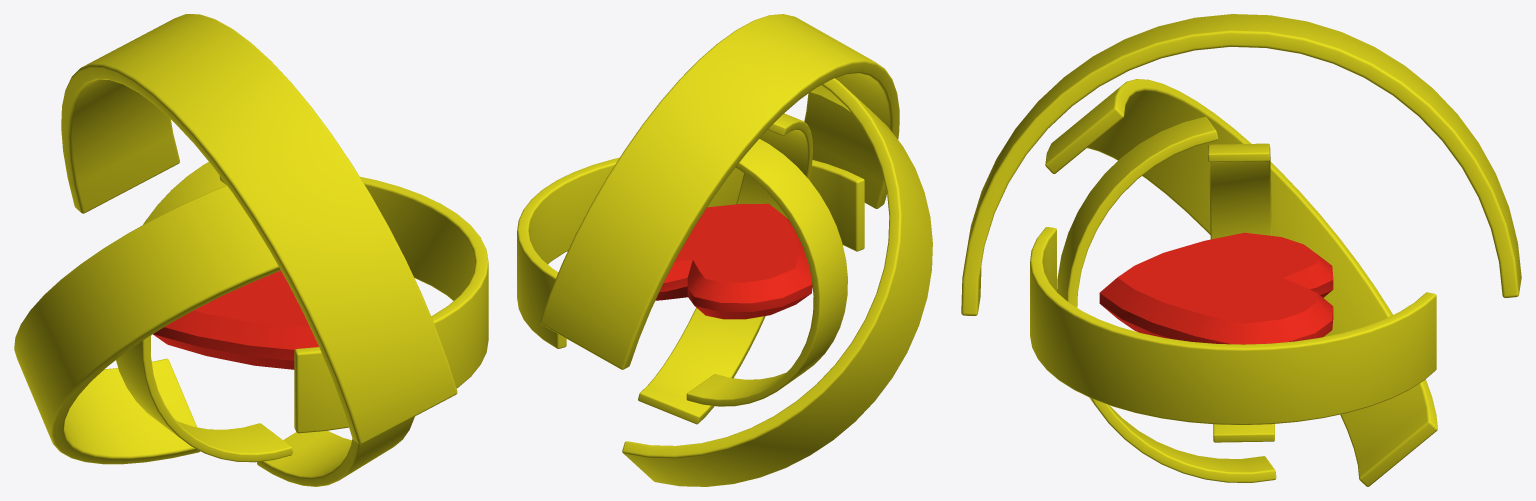
File: asset.glb
3 views of the same model, side by side, from view 1: azimuth 30°, elevation 25°; view 2: azimuth 150°, elevation 25°; view 3: azimuth 270°, elevation 25° (orthographic). The views are drawn at different scales.
Visible parts, largest first — view 1: BezierCircle.004, BezierCircle.003, BezierCircle.002, Circle, BezierCircle, BezierCircle.001; view 2: BezierCircle.004, BezierCircle.003, Circle, BezierCircle.002, BezierCircle, BezierCircle.001; view 3: BezierCircle.002, BezierCircle.004, BezierCircle.003, Circle, BezierCircle.001, BezierCircle.
Part boxes in pixels (x1,y1,x2,y2): BezierCircle.004: (61,14,457,444); BezierCircle.003: (14,185,280,464); BezierCircle.002: (294,177,488,433); Circle: (153,270,318,369); BezierCircle: (116,162,292,462); BezierCircle.001: (219,176,414,486); BezierCircle.004: (540,14,899,369); BezierCircle.003: (622,78,932,486); Circle: (655,203,812,319); BezierCircle.002: (517,157,864,348); BezierCircle: (686,139,847,406); BezierCircle.001: (638,113,812,424); BezierCircle.002: (1030,227,1436,424); BezierCircle.004: (961,14,1521,315); BezierCircle.003: (1045,79,1437,486); Circle: (1099,232,1333,344); BezierCircle.001: (1057,116,1276,482); BezierCircle: (1208,143,1274,442).
Size of the model in its own units: 16.55 by 18.01 by 20.51.
